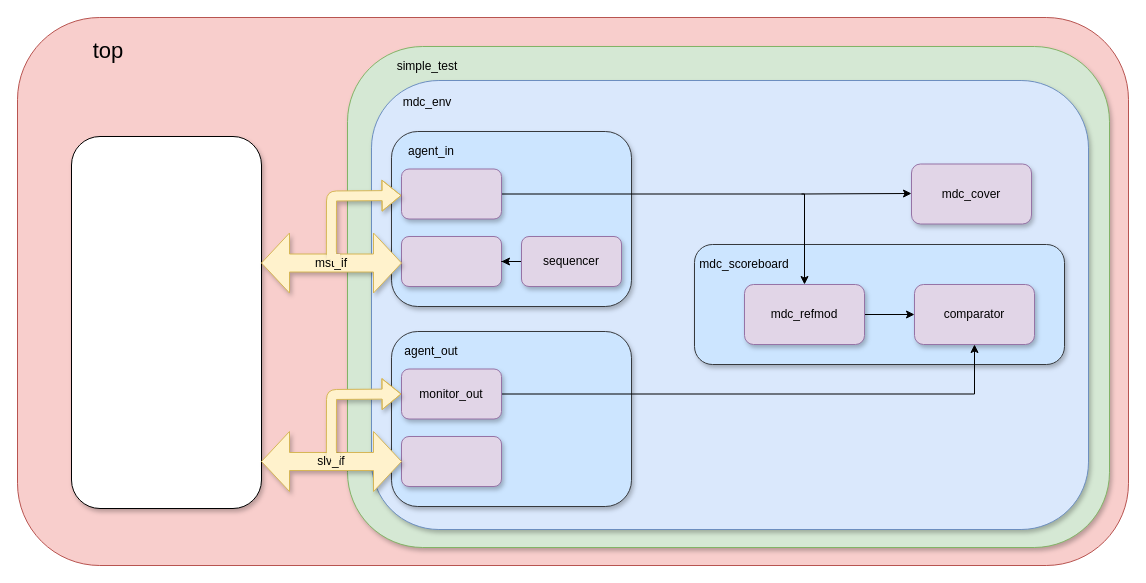
The diagram is 1146 pixels wide and 583 high, and some of its shapes have lost their labels. The centre of each missing label's shape, as x and y in pixels:
"driver_in" goes at point 452,263.
"driver_out" goes at point 452,463.
"DUT" goes at point 167,324.
"monitor_in" goes at point 452,195.
